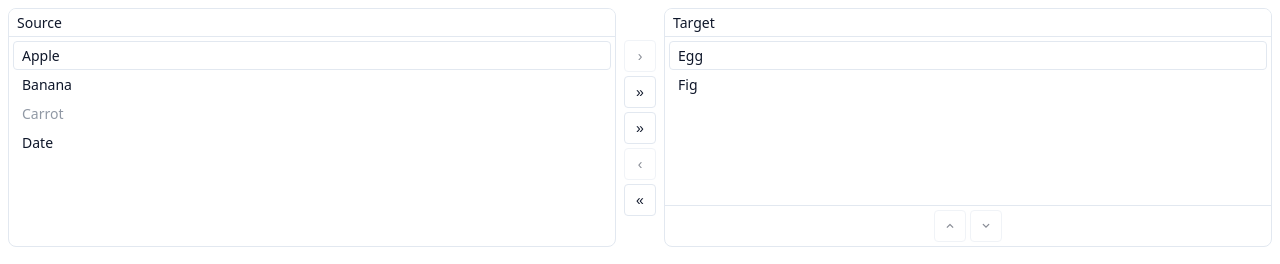
Test: PickList › move all to source moves non-disabled target items
The width and height of the screenshot is (1280, 264).
Click the button named "Move all to source".
click(640, 200)  # box [624,184,656,216]
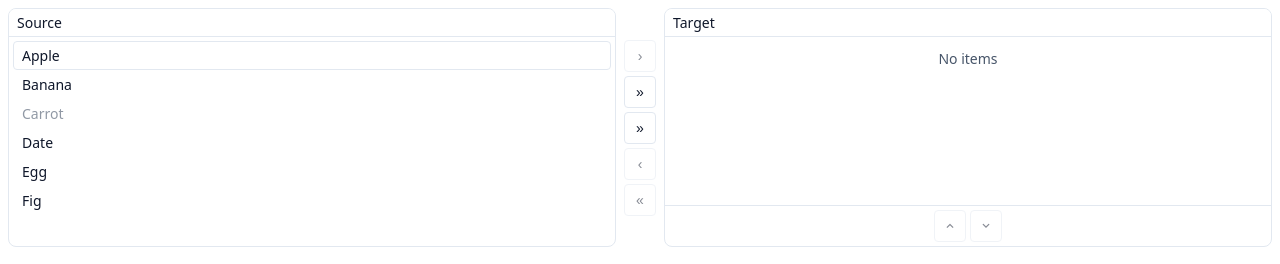
Now the list named "Source" shows "Egg", box [22,162,47,181]
Now the list "Target" no longer shows "Egg"
